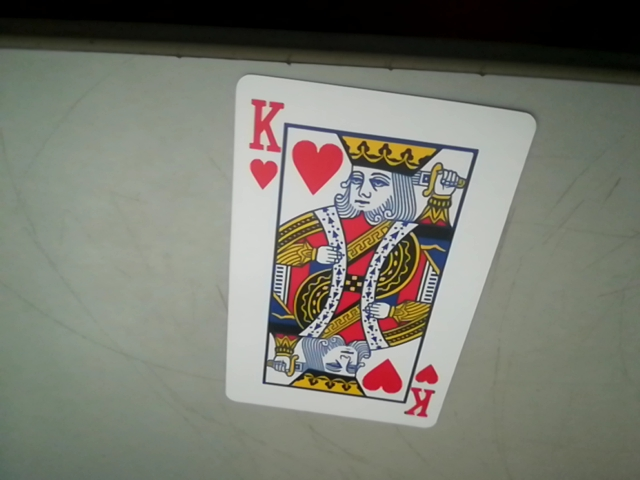hx k: (246, 96, 281, 194), (400, 363, 447, 418)
